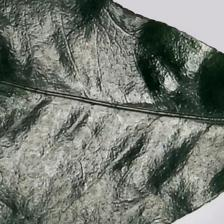healthy: (0, 2, 209, 224)
